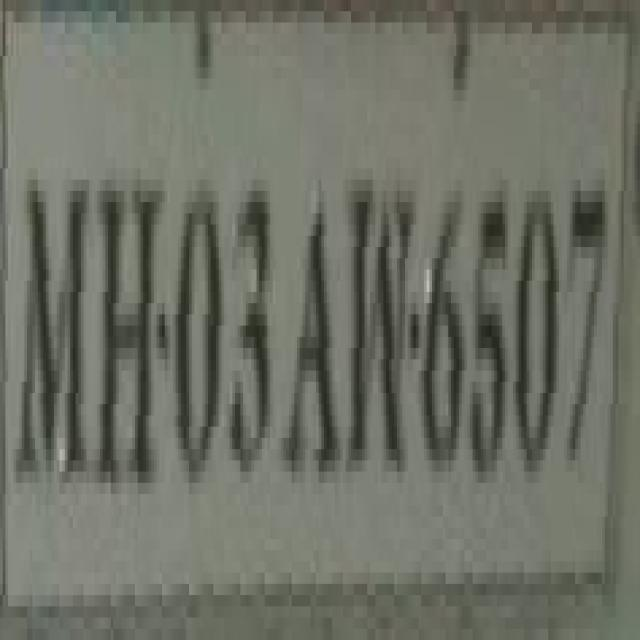license_plate: (0, 22, 629, 629)
